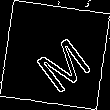M_NW: (22, 21, 88, 89)
